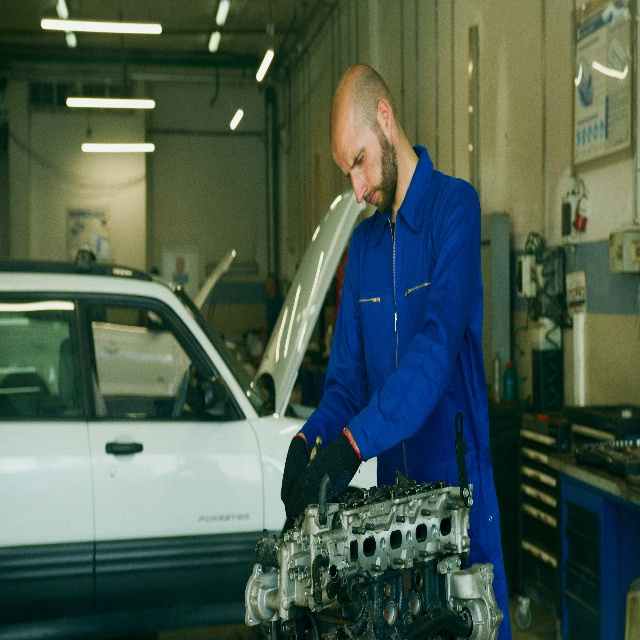Guantes: (286, 428, 362, 520), (280, 436, 309, 518)
